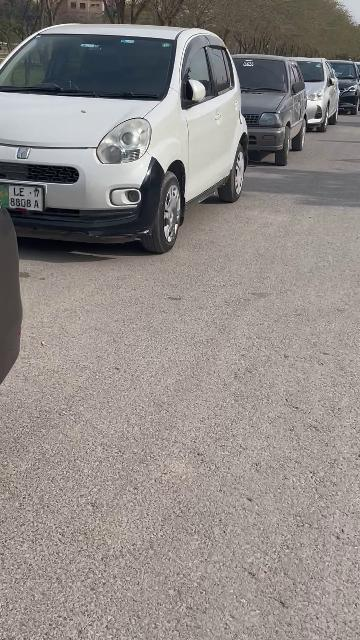plate: (1, 183, 46, 213)
